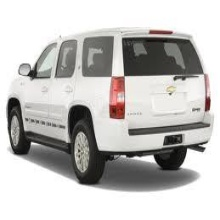no damage: (6, 26, 213, 184)
